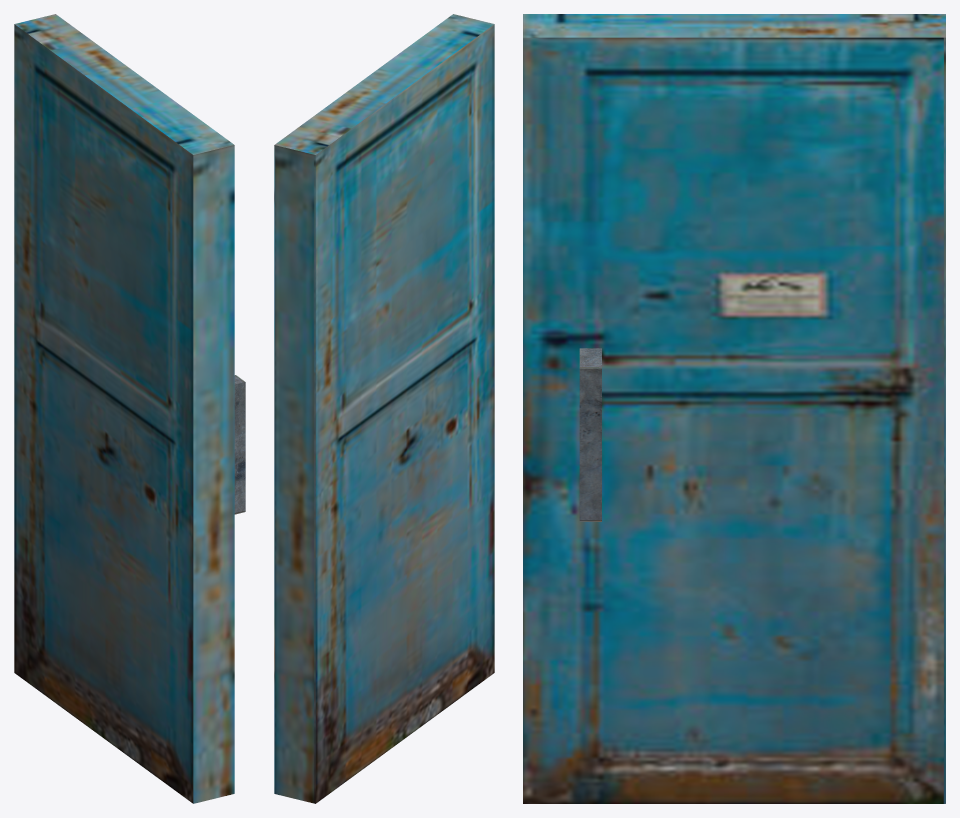
File: door2.glb
3 renders of one model, left to right at view 1: azimuth 30°, elevation 25°; view 2: azimuth 150°, elevation 25°; view 3: azimuth 270°, elevation 25°, orthographic. The views are drawn at different scales.
Parts seen in each view (by area): view 1: Door; view 2: Door; view 3: Door.
Boxes of the visible parts, bbox=[...] form: Door: bbox=[14, 14, 245, 803]; Door: bbox=[274, 14, 494, 803]; Door: bbox=[523, 14, 945, 803].
Size of what is drawn, in the model's own units: 0.7361 by 6 by 3.
Materials: 1 (1 with a texture image).
